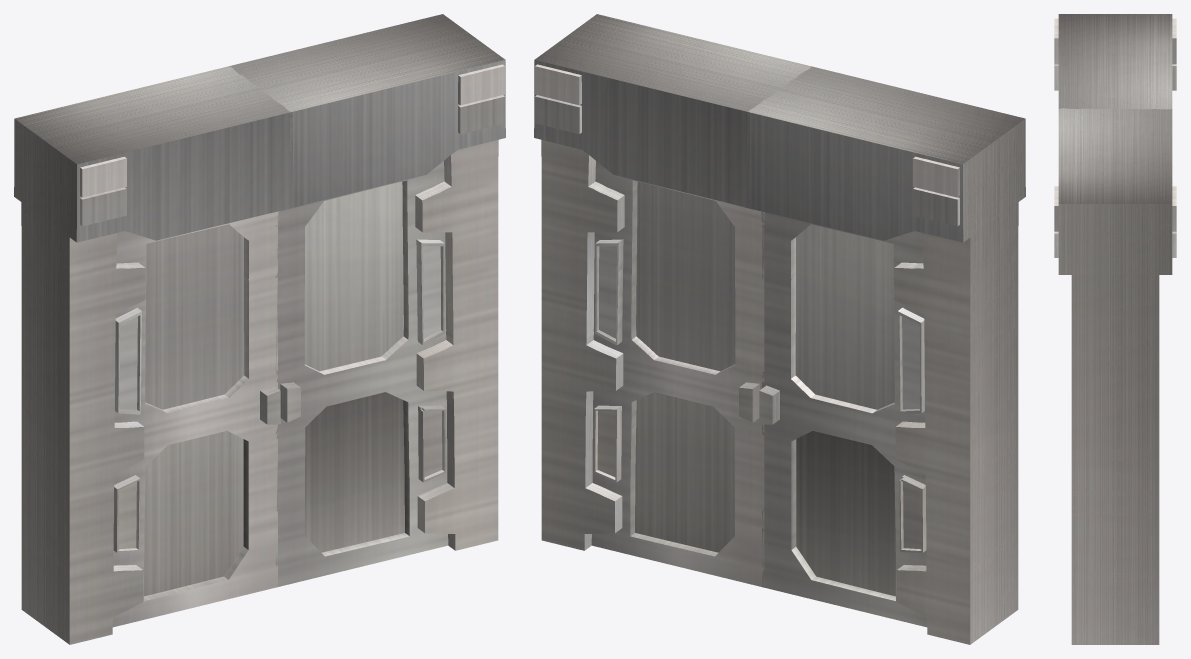
File: SPACE_DOOR.fbx
3 views of the same model, side by side, from view 1: azimuth 30°, elevation 25°; view 2: azimuth 150°, elevation 25°; view 3: azimuth 270°, elevation 25° (orthographic). The views are drawn at different scales.
Parts seen in each view (by area): view 1: DOOR_1, DOOR_2; view 2: DOOR_1, DOOR_2; view 3: DOOR_2, DOOR_1.
Boxes of the visible parts, x1=… form: DOOR_1: x1=14, y1=66, x2=293, y2=644; DOOR_2: x1=229, y1=14, x2=505, y2=586; DOOR_1: x1=746, y1=66, x2=1025, y2=644; DOOR_2: x1=534, y1=14, x2=810, y2=586; DOOR_2: x1=1054, y1=108, x2=1176, y2=644; DOOR_1: x1=1054, y1=14, x2=1176, y2=109.
Bounding box in the file's own units: 10.28 × 11.12 × 2.8.
2 materials, 2 textured.
